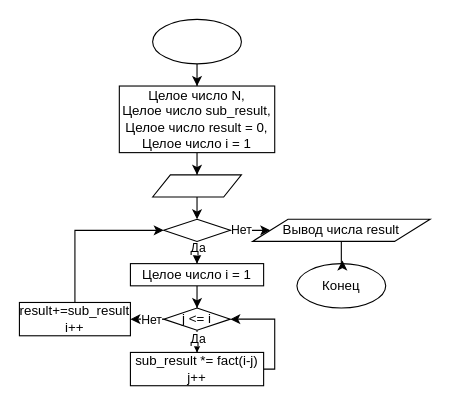
Image size: 450x405. Some labels were removed from this diagram. The box of each missing label's shape, as (x1, y1, x2, y2) in pixels:
i <= N: (163, 218, 230, 241)
Ввод N: (152, 174, 241, 197)
Начало: (152, 18, 241, 64)
